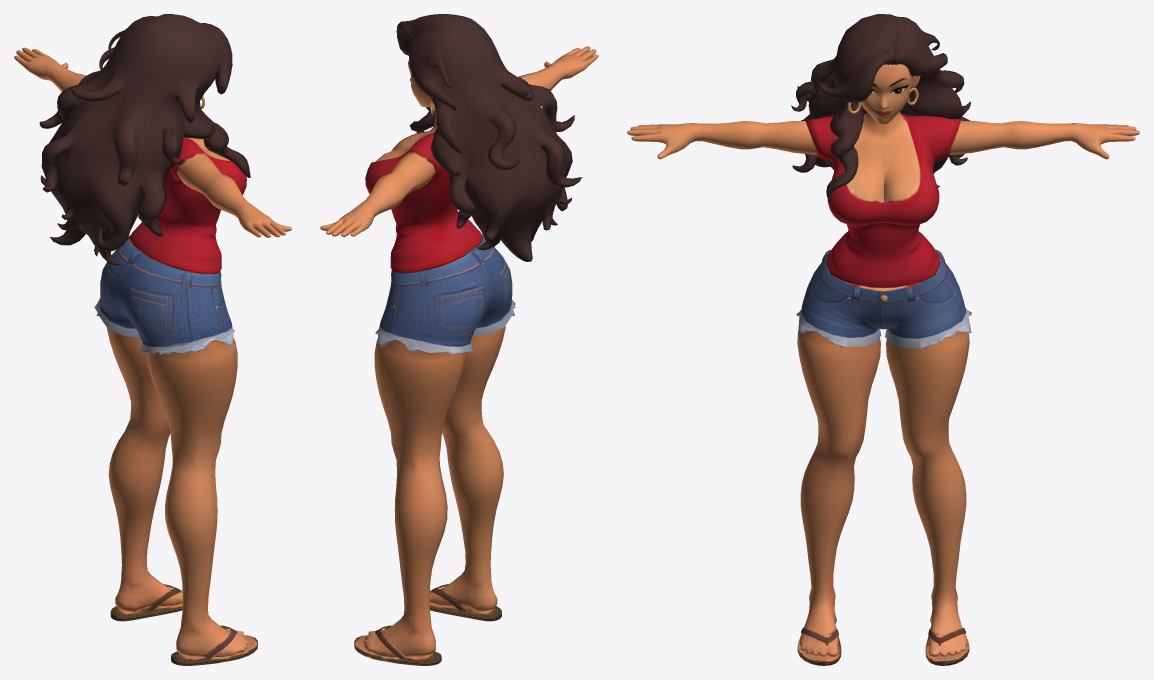
The model's file is tripo_convert_306839df-9ba4-4acc-b967-a3fe2d1e54f4.glb.
3 renders of one model, left to right at view 1: azimuth 30°, elevation 25°; view 2: azimuth 150°, elevation 25°; view 3: azimuth 270°, elevation 25°, orthographic.
Parts seen in each view (by area): view 1: tripo_node_306839df-9ba4-4acc-b967-a3fe2d1e54f4; view 2: tripo_node_306839df-9ba4-4acc-b967-a3fe2d1e54f4; view 3: tripo_node_306839df-9ba4-4acc-b967-a3fe2d1e54f4.
Boxes of the visible parts, x1=… form: tripo_node_306839df-9ba4-4acc-b967-a3fe2d1e54f4: x1=14, y1=14, x2=291, y2=665; tripo_node_306839df-9ba4-4acc-b967-a3fe2d1e54f4: x1=320, y1=14, x2=598, y2=665; tripo_node_306839df-9ba4-4acc-b967-a3fe2d1e54f4: x1=627, y1=14, x2=1139, y2=665.
Bounding box in the file's own units: 0.3276 × 0.9995 × 0.7505.
Materials: 1 (1 with a texture image).
